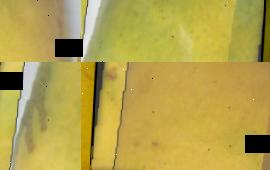PartiallyRipe: (81, 0, 267, 62)
Ripe: (89, 62, 270, 170), (0, 62, 81, 170), (0, 0, 81, 62)
